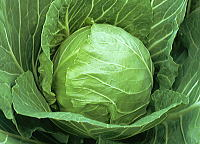cabbage: (2, 0, 199, 143)
